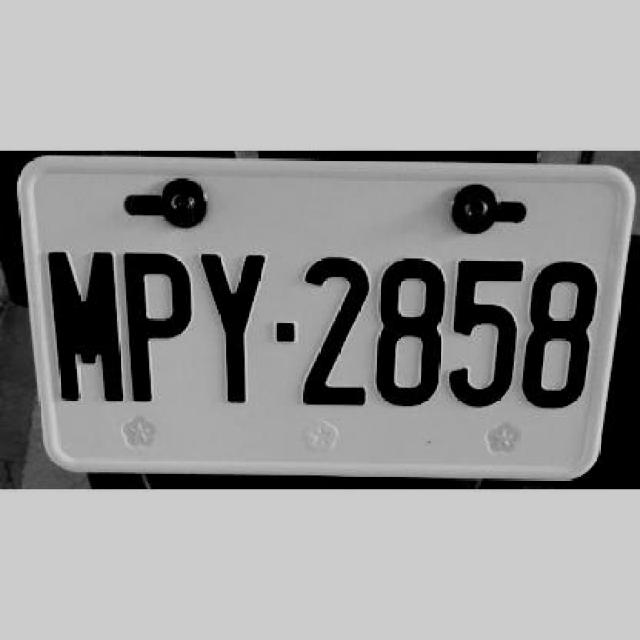-: (272, 319, 297, 343)
2: (297, 251, 371, 412)
5: (448, 254, 523, 411)
8: (520, 257, 597, 412), (374, 252, 446, 412)
M: (46, 249, 125, 403)
P: (124, 248, 194, 404)
Y: (198, 249, 271, 408)
